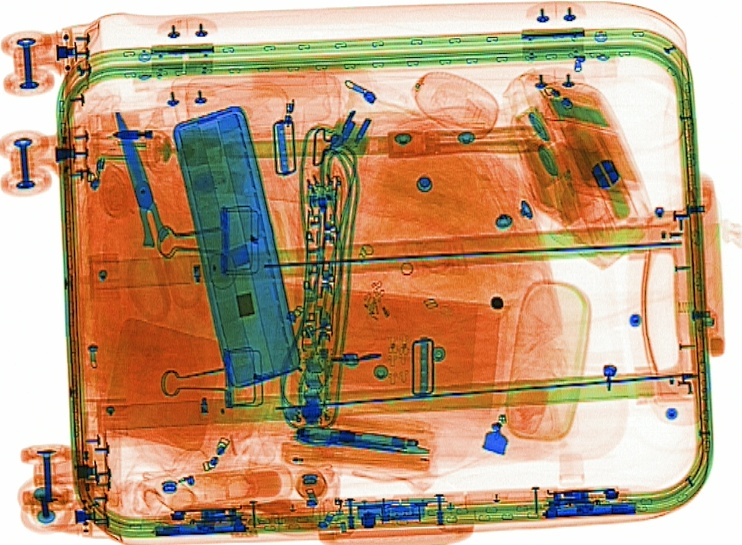scissors: (113, 109, 208, 323)
